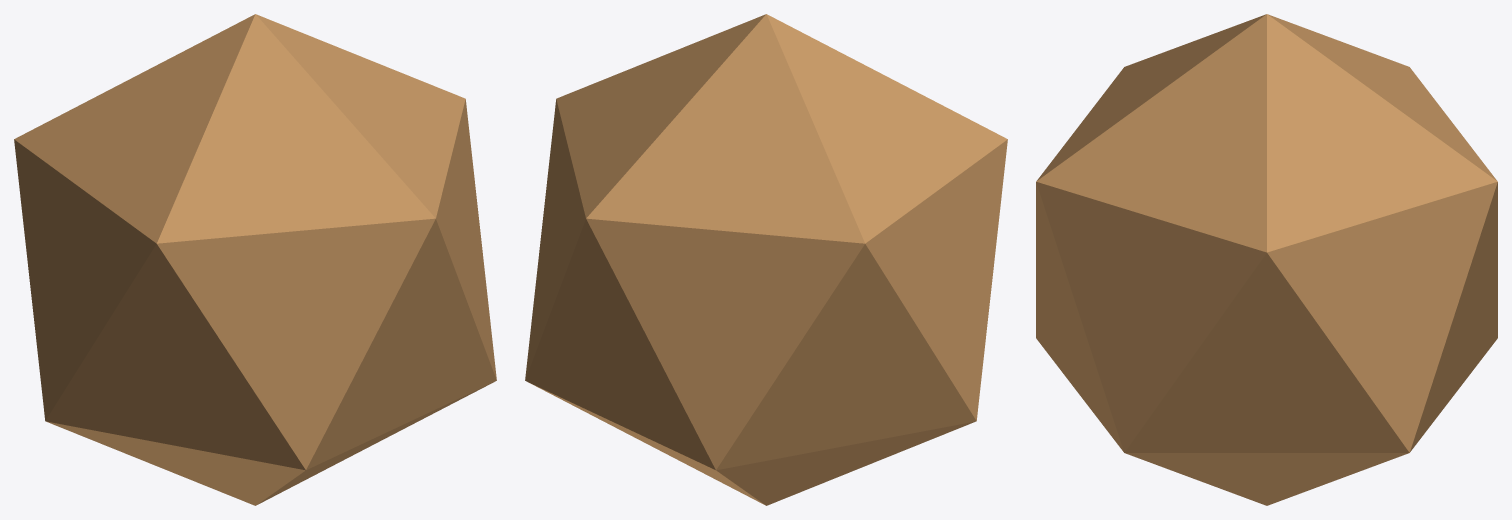
The model's file is CookieCrumbs.fbx.
3 renders of one model, left to right at view 1: azimuth 30°, elevation 25°; view 2: azimuth 150°, elevation 25°; view 3: azimuth 270°, elevation 25°, orthographic.
Visible parts, largest first — view 1: Crumb_05; view 2: Crumb_05; view 3: Crumb_05.
Part boxes in pixels (box(x1,y1,x2,y2)): Crumb_05: box(14, 14, 496, 505); Crumb_05: box(525, 14, 1007, 505); Crumb_05: box(1036, 14, 1497, 505).
Bounding box in the file's own units: 0.0884 × 0.0988 × 0.0841.
